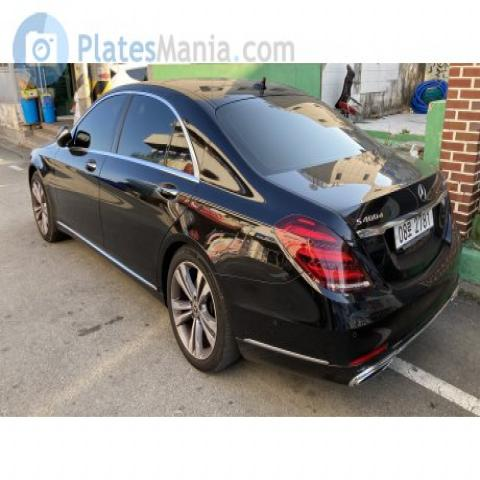LP: (380, 193, 444, 262)
